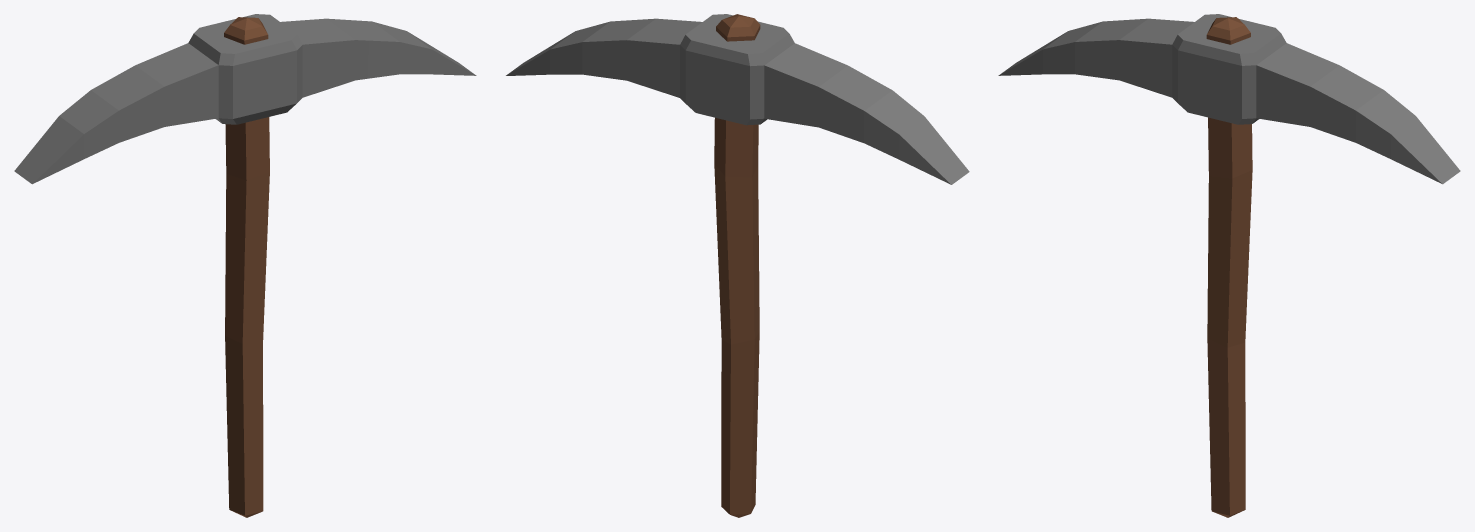
File: IronPickaxe.fbx
The picture shows the model from 3 angles, left to right: view 1: azimuth 30°, elevation 25°; view 2: azimuth 150°, elevation 25°; view 3: azimuth 330°, elevation 25°; orthographic projection.
Visible parts, largest first — view 1: Iron Pickaxe; view 2: Iron Pickaxe; view 3: Iron Pickaxe.
Part boxes in pixels (box(x1,y1,x2,y2)): Iron Pickaxe: box(14, 14, 476, 517); Iron Pickaxe: box(506, 14, 969, 517); Iron Pickaxe: box(998, 14, 1460, 517).
Size of the model in its own units: 403 by 433 by 61.31.
